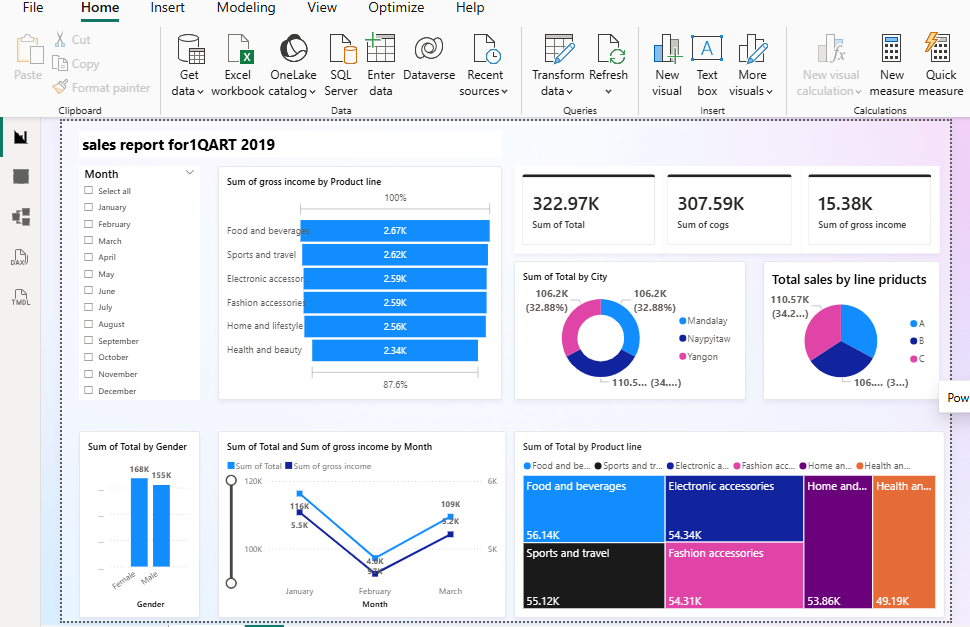

This screenshot's page, from the dashboard's own definition file:
{"tool":"powerbi","page":{"name":"Page 1","canvas":[1280,720],"ordinal":0},"visuals":[{"type":"cardVisual","fields":{"Data":["Sum(supermarket_sales - Sheet1 (2).gross income)"]},"box":[1063.1,64.6,201.5,126.2],"z":0},{"type":"cardVisual","fields":{"Data":["Sum(supermarket_sales - Sheet1 (2).cogs)"]},"box":[860,64.6,203.1,126.2],"z":1000},{"type":"cardVisual","fields":{"Data":["Sum(supermarket_sales - Sheet1 (2).Total)"]},"box":[650.8,64.6,215.4,126.2],"z":2000},{"type":"pieChart","title":" Total sales by line priducts","fields":{"Y":["Sum(supermarket_sales - Sheet1 (2).Total)"],"Series":["supermarket_sales - Sheet1 (2).Branch"]},"box":[1009.2,201.5,255.4,200],"z":3000},{"type":"donutChart","fields":{"Y":["Sum(supermarket_sales - Sheet1 (2).Total)"],"Series":["supermarket_sales - Sheet1 (2).City"]},"box":[650.8,201.5,333.8,200],"z":4000},{"type":"treemap","fields":{"Group":["supermarket_sales - Sheet1 (2).Product line"],"Values":["Sum(supermarket_sales - Sheet1 (2).Total)"]},"box":[650.8,446.2,620,269.2],"z":5000},{"type":"clusteredColumnChart","fields":{"Category":["supermarket_sales - Sheet1 (2).Gender"],"Y":["Sum(supermarket_sales - Sheet1 (2).Total)"]},"box":[24.6,446.2,173.8,269.2],"z":6000},{"type":"slicer","fields":{"Values":["supermarket_sales - Sheet1 (2).Date.Variation.Date Hierarchy.Month"]},"box":[24.6,64.6,173.8,336.9],"z":7000},{"type":"lineChart","fields":{"Category":["supermarket_sales - Sheet1 (2).Date.Variation.Date Hierarchy.Month"],"Y":["Sum(supermarket_sales - Sheet1 (2).Total)"],"Y2":["Sum(supermarket_sales - Sheet1 (2).gross income)"]},"box":[224.6,446.2,415.4,269.2],"z":8000},{"type":"funnel","fields":{"Y":["Sum(supermarket_sales - Sheet1 (2).gross income)"],"Category":["supermarket_sales - Sheet1 (2).Product line"]},"box":[224.6,64.6,409.2,336.9],"z":9000},{"type":"textbox","box":[24.6,13.8,609.2,38.5],"z":10000}]}

Visuals, with their boxes on the page's 1280x720 design canvas (x1, y1, x2, y2). These are canvas units, not pixel positions in the 970x627 screenshot, which may show the page scaled, cropped or inside an application window:
cardVisual - Sum(supermarket_sales - Sheet1 (2).gross income): [left=1063, top=65, right=1265, bottom=191]
cardVisual - Sum(supermarket_sales - Sheet1 (2).cogs): [left=860, top=65, right=1063, bottom=191]
cardVisual - Sum(supermarket_sales - Sheet1 (2).Total): [left=651, top=65, right=866, bottom=191]
" Total sales by line priducts" pieChart: [left=1009, top=202, right=1265, bottom=402]
donutChart - Sum(supermarket_sales - Sheet1 (2).Total) x supermarket_sales - Sheet1 (2).City: [left=651, top=202, right=985, bottom=402]
treemap - supermarket_sales - Sheet1 (2).Product line x Sum(supermarket_sales - Sheet1 (2).Total): [left=651, top=446, right=1271, bottom=715]
clusteredColumnChart - supermarket_sales - Sheet1 (2).Gender x Sum(supermarket_sales - Sheet1 (2).Total): [left=25, top=446, right=198, bottom=715]
slicer - supermarket_sales - Sheet1 (2).Date.Variation.Date Hierarchy.Month: [left=25, top=65, right=198, bottom=402]
lineChart - supermarket_sales - Sheet1 (2).Date.Variation.Date Hierarchy.Month x Sum(supermarket_sales - Sheet1 (2).Total): [left=225, top=446, right=640, bottom=715]
funnel - Sum(supermarket_sales - Sheet1 (2).gross income) x supermarket_sales - Sheet1 (2).Product line: [left=225, top=65, right=634, bottom=402]
textbox: [left=25, top=14, right=634, bottom=52]
